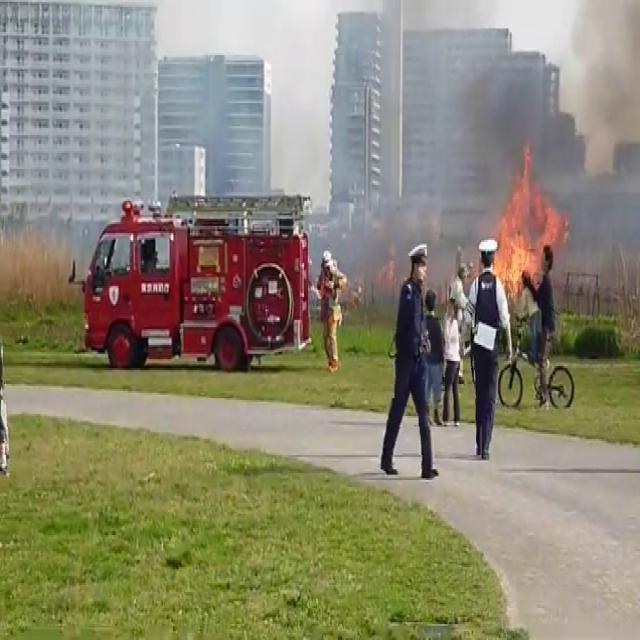Fire: (486, 156, 568, 294)
Smoke: (372, 0, 640, 242)
